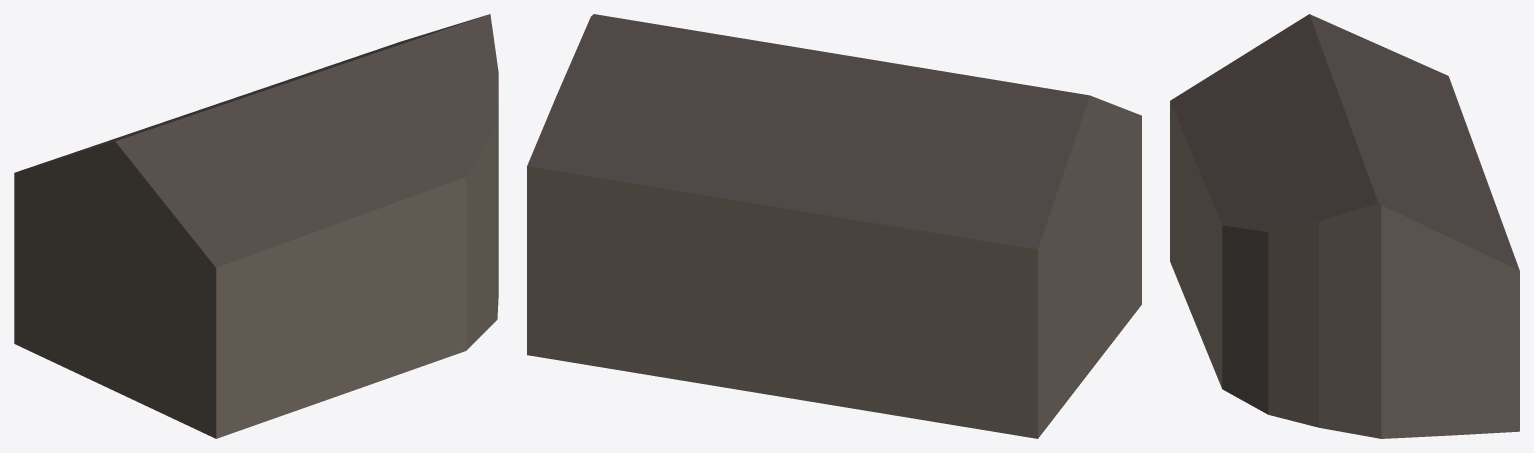
3 views of the same model, side by side, from view 1: azimuth 30°, elevation 25°; view 2: azimuth 150°, elevation 25°; view 3: azimuth 270°, elevation 25° (orthographic). The views are drawn at different scales.
Parts seen in each view (by area): view 1: HP-w1196661453; view 2: HP-w1196661453; view 3: HP-w1196661453.
Boxes of the visible parts, x1,y1,x2,y2 form: HP-w1196661453: (14, 14, 498, 438); HP-w1196661453: (527, 14, 1141, 438); HP-w1196661453: (1170, 14, 1519, 438).
Bounding box in the file's own units: 16.16 × 8.77 × 11.82.
